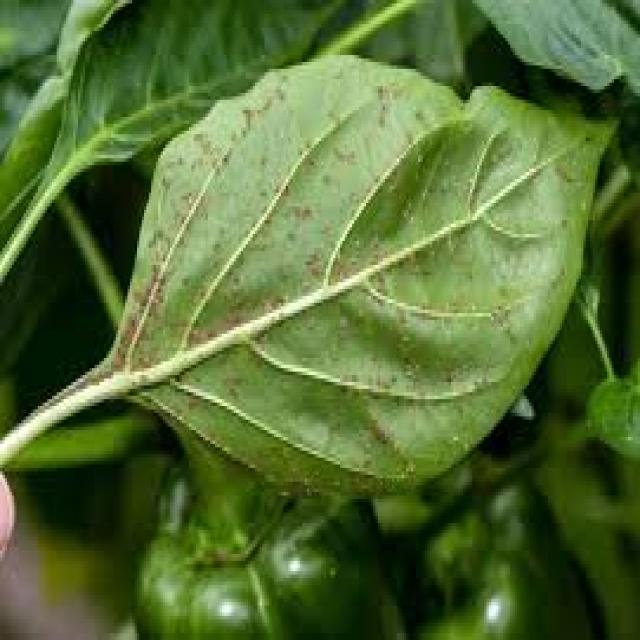aphid: (555, 206, 574, 234), (437, 361, 456, 389), (373, 100, 390, 131), (331, 306, 352, 331), (300, 145, 319, 172), (373, 258, 390, 286), (295, 196, 312, 224), (444, 423, 463, 448), (258, 292, 276, 316), (364, 344, 380, 368), (295, 272, 312, 292), (189, 365, 203, 389), (175, 268, 191, 289), (236, 100, 255, 117), (151, 220, 165, 241), (154, 268, 168, 289), (366, 165, 383, 182), (218, 145, 232, 165), (174, 227, 187, 248), (255, 179, 267, 199), (255, 145, 267, 165), (172, 148, 185, 165), (425, 241, 437, 258)
